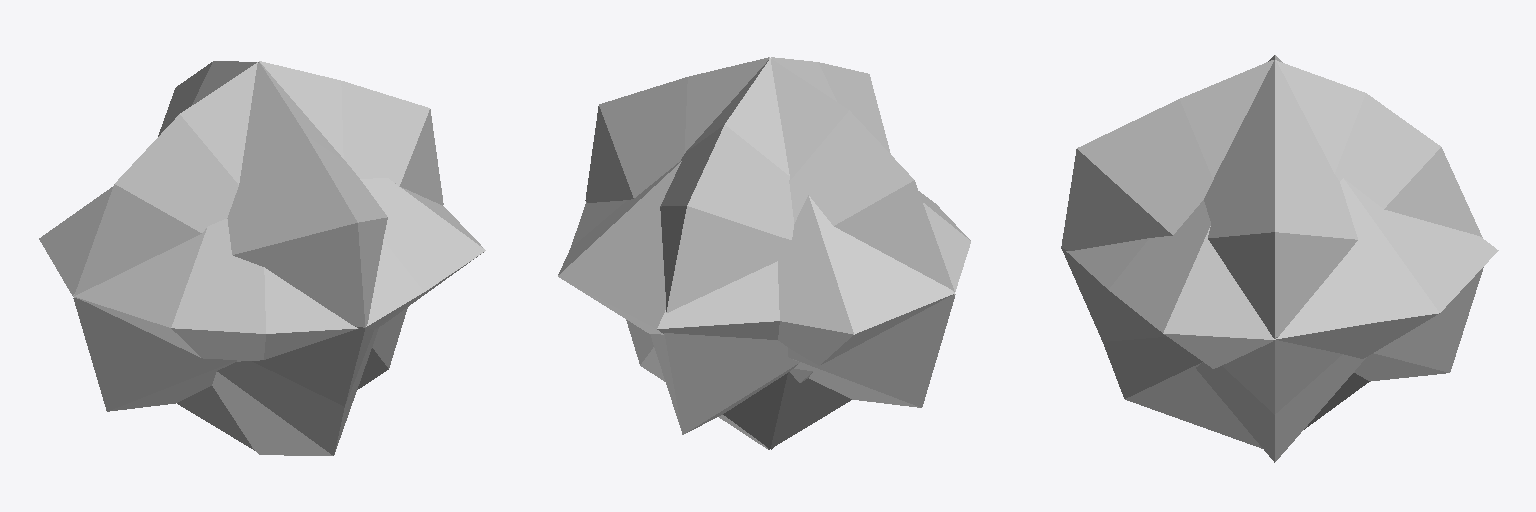
Rendered from SteamCloud.obj.
The picture shows the model from 3 angles: view 1: azimuth 30°, elevation 25°; view 2: azimuth 150°, elevation 25°; view 3: azimuth 270°, elevation 25°; orthographic projection.
Visible parts, largest first — view 1: Converted object 0; view 2: Converted object 0; view 3: Converted object 0.
Part boxes in pixels (left/top/right/bottom): Converted object 0: left=39, top=61, right=485, bottom=455; Converted object 0: left=558, top=57, right=970, bottom=449; Converted object 0: left=1061, top=55, right=1498, bottom=462.
Size of the model in its own units: 0.7778 by 0.7889 by 0.7958.